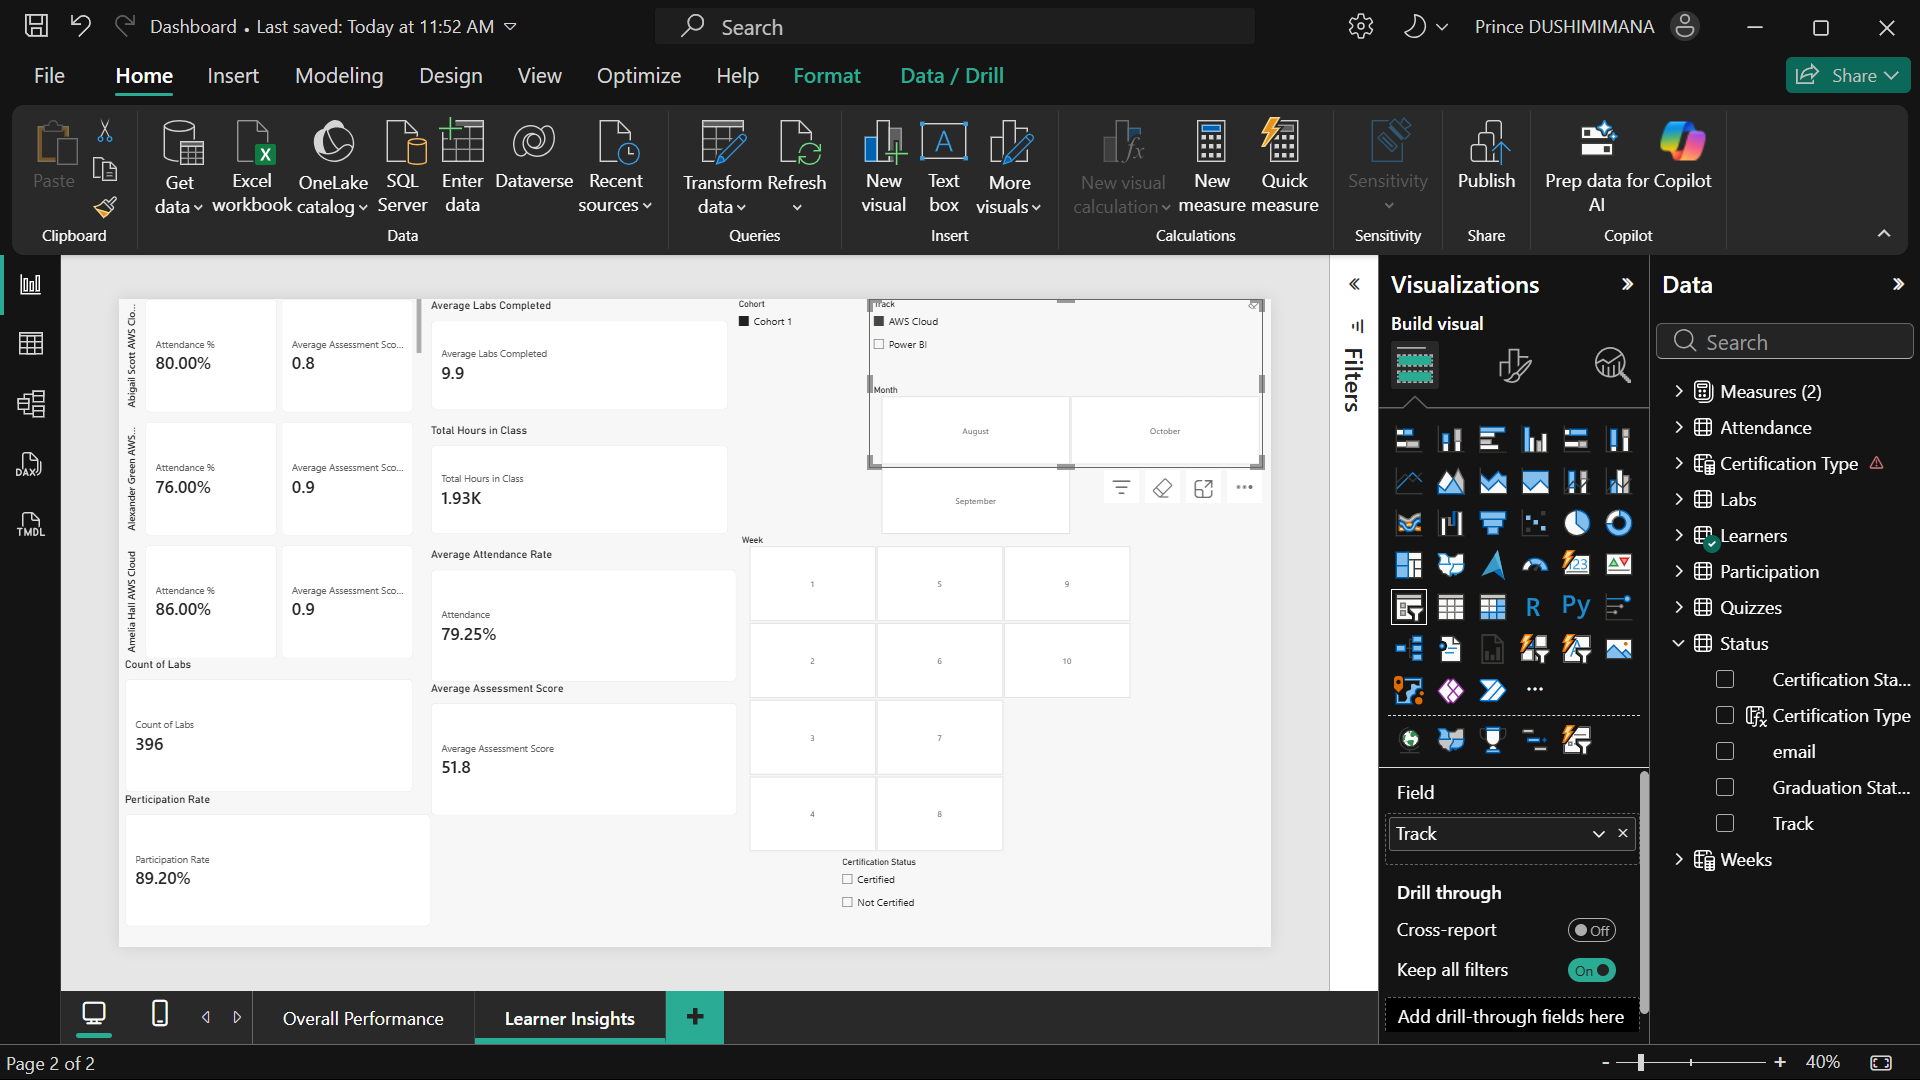

This screenshot's page, from the dashboard's own definition file:
{"tool":"powerbi","page":{"name":"Learner Insights","canvas":[1920,1080],"ordinal":1},"visuals":[{"type":"cardVisual","fields":{"Data":["Measures (2).Attendance %","Measures (2).Attendance %","Measures (2).Participation Rate","Measures (2).Average Assessment Score"],"Rows":["Learners.Name","Learners.Track"]},"box":[10.2,0,494.6,609.8],"z":0},{"type":"cardVisual","title":"Count of Labs","fields":{"Data":["Measures (2).Count of Labs"]},"box":[10.2,598.2,509.2,223.2],"z":1},{"type":"cardVisual","title":"Average Labs Completed","fields":{"Data":["Measures (2).Average Labs Completed"]},"box":[519.4,0,495,184],"z":2},{"type":"cardVisual","title":"Total Hours in Class","fields":{"Data":["Measures (2).Total Hours in Class"]},"box":[519.4,208.6,495,184],"z":3},{"type":"cardVisual","title":"Average Attendance Rate","fields":{"Data":["Measures (2).Attendance %"]},"box":[519.4,414.3,509,223],"z":4},{"type":"cardVisual","title":"Perticipation Rate","fields":{"Data":["Measures (2).Participation Rate"]},"box":[10.2,821.4,509,223],"z":5},{"type":"cardVisual","title":"Average Assessment Score","fields":{"Data":["Measures (2).Average Assessment Score"]},"box":[555.9,690.1,510.6,223.2],"z":6},{"type":"slicer","fields":{"Values":["Learners.Track"]},"box":[1250.3,0,656.5,283],"z":7},{"type":"slicer","fields":{"Values":["Weeks.Month"]},"box":[1250.3,141.5,669.7,250.9],"z":8},{"type":"slicer","fields":{"Values":["Weeks.Week"]},"box":[1232.8,383.7,674,529.6],"z":9},{"type":"slicer","fields":{"Values":["Status.Certification Status"]},"box":[1232.8,929.4,652.2,150.3],"z":10}]}

Visuals, with their boxes on the page's 1920x1080 design canvas (x1, y1, x2, y2). These are canvas units, not pixel positions in the 1920x1080 screenshot, which may show the page scaled, cropped or inside an application window:
cardVisual - Measures (2).Attendance % x Measures (2).Attendance %: bbox=(10, 0, 505, 610)
"Count of Labs" cardVisual: bbox=(10, 598, 519, 821)
"Average Labs Completed" cardVisual: bbox=(519, 0, 1014, 184)
"Total Hours in Class" cardVisual: bbox=(519, 209, 1014, 393)
"Average Attendance Rate" cardVisual: bbox=(519, 414, 1028, 637)
"Perticipation Rate" cardVisual: bbox=(10, 821, 519, 1044)
"Average Assessment Score" cardVisual: bbox=(556, 690, 1066, 913)
slicer - Learners.Track: bbox=(1250, 0, 1907, 283)
slicer - Weeks.Month: bbox=(1250, 142, 1920, 392)
slicer - Weeks.Week: bbox=(1233, 384, 1907, 913)
slicer - Status.Certification Status: bbox=(1233, 929, 1885, 1080)
